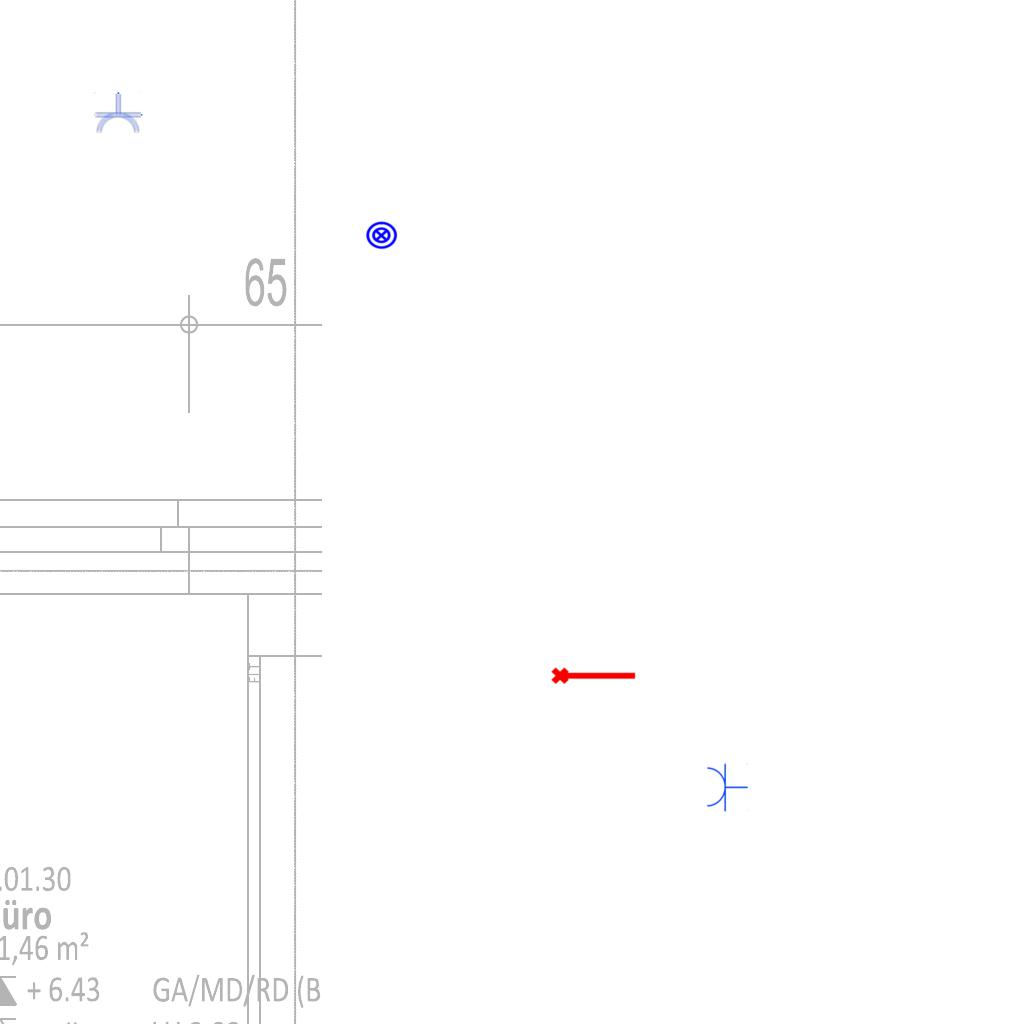ASR_Ansaugoeffnung: (550, 663, 638, 686)
Schukosteckdose_einfach: (705, 762, 748, 812), (93, 92, 143, 135)
Taster_beleuchtet: (365, 219, 398, 252)
